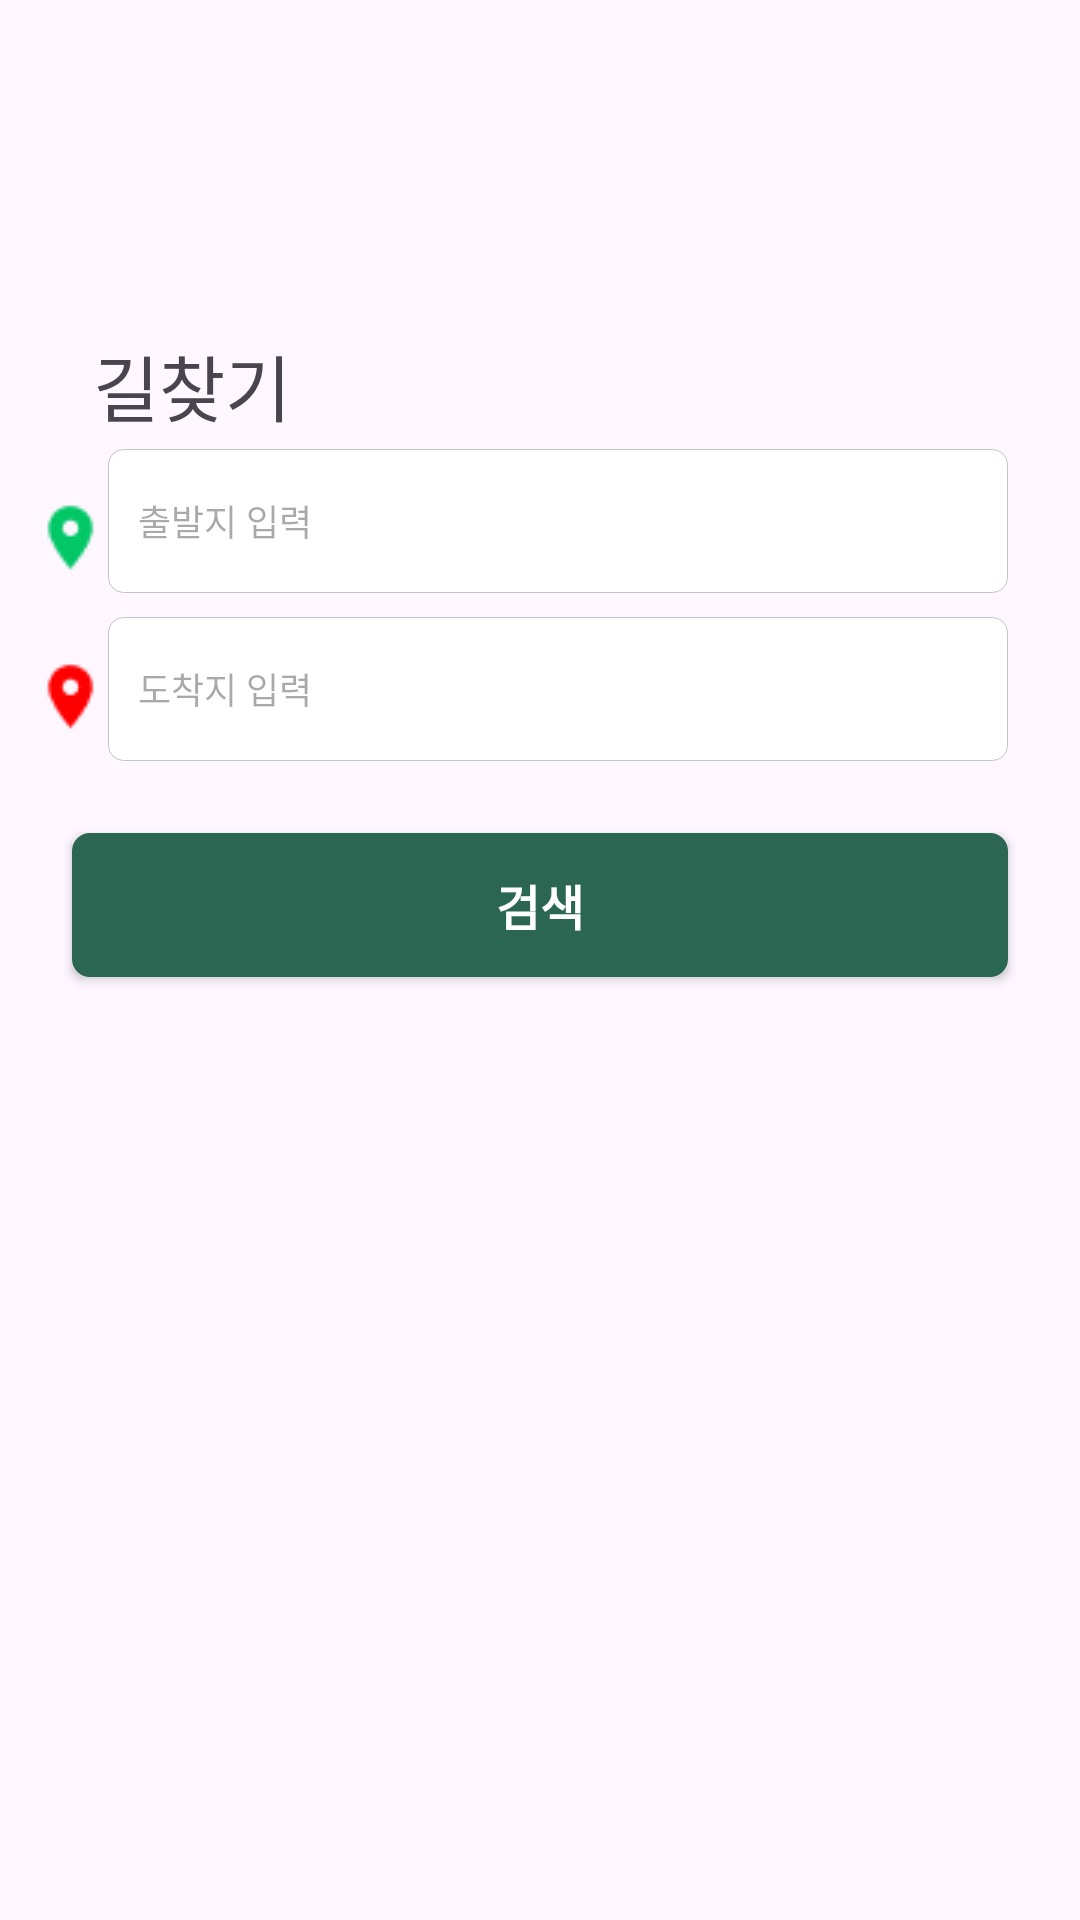

Icon click points for this 1080x1920 phone screenshot, format (x=x, y=y):
endpoint: (x=70, y=696)
startpoint: (x=70, y=537)
